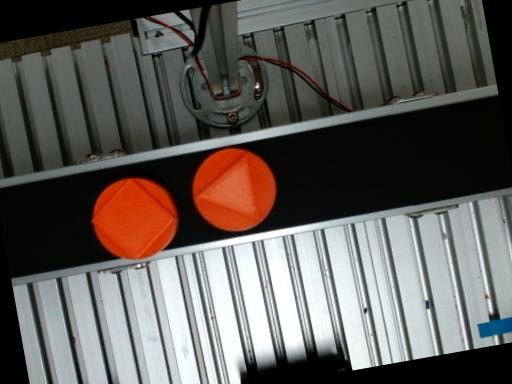Not_Square: (195, 150, 259, 222)
Orange_Waper: (193, 147, 277, 231), (93, 177, 178, 258)
Square: (92, 176, 174, 260)
